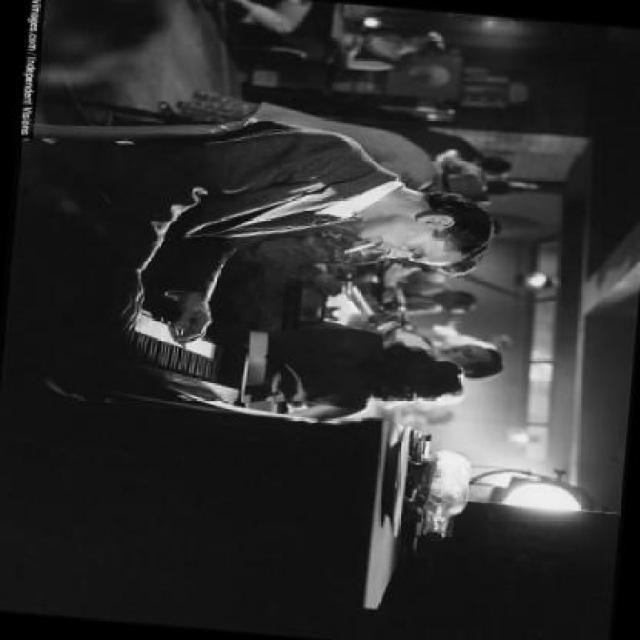cigarette: (338, 239, 376, 258)
